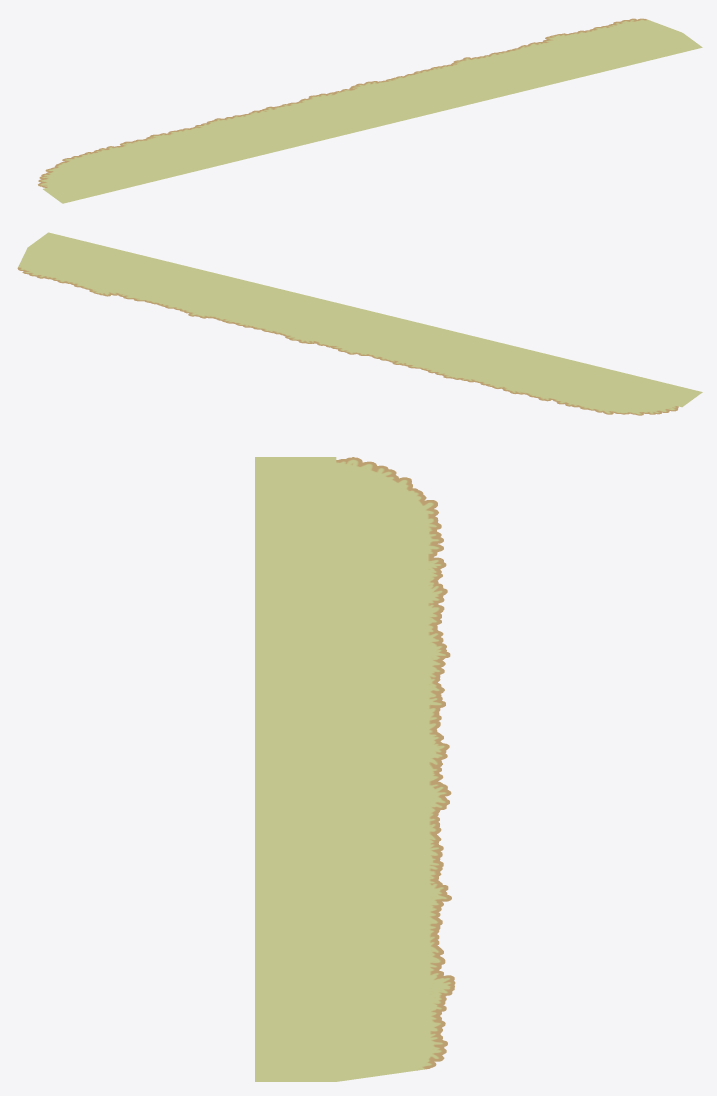
The model's file is Mesh_Activity_Pachinko_02_Grass_02.fbx.
3 views of the same model, one above another, from view 1: azimuth 30°, elevation 25°; view 2: azimuth 150°, elevation 25°; view 3: azimuth 270°, elevation 25° (orthographic). The views are drawn at different scales.
Visible parts, largest first — view 1: Mesh_Activity_Pachinko_02_Grass_02; view 2: Mesh_Activity_Pachinko_02_Grass_02; view 3: Mesh_Activity_Pachinko_02_Grass_02.
Part boxes in pixels (box(x1,y1,x2,y2)): Mesh_Activity_Pachinko_02_Grass_02: box(38, 18, 702, 203); Mesh_Activity_Pachinko_02_Grass_02: box(17, 232, 702, 415); Mesh_Activity_Pachinko_02_Grass_02: box(255, 457, 455, 1081).
Bounding box in the file's own units: 775 × 0 × 108.
